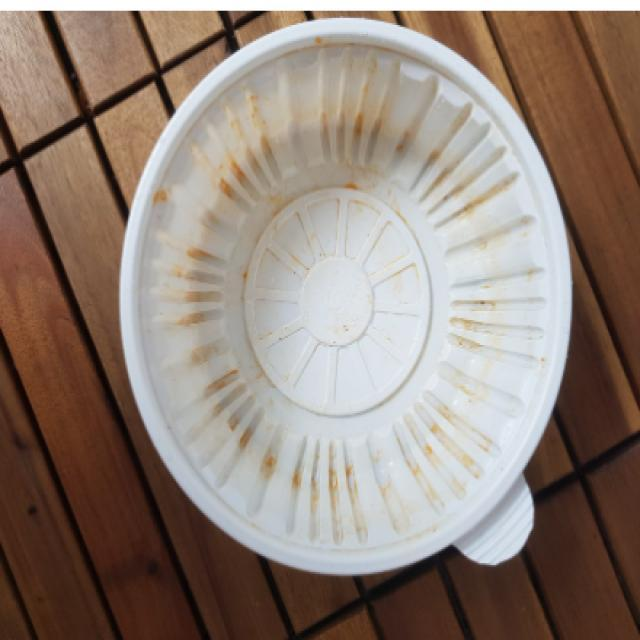bottle: (97, 0, 609, 590)
